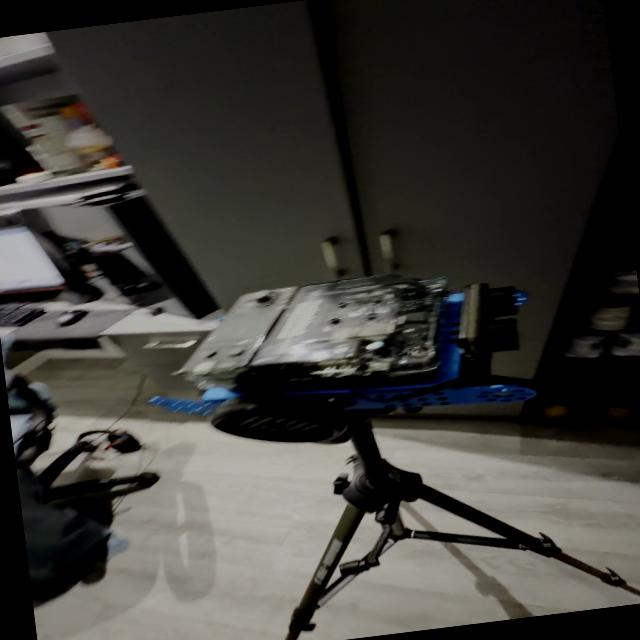mbot-detection: (127, 252, 553, 466)
